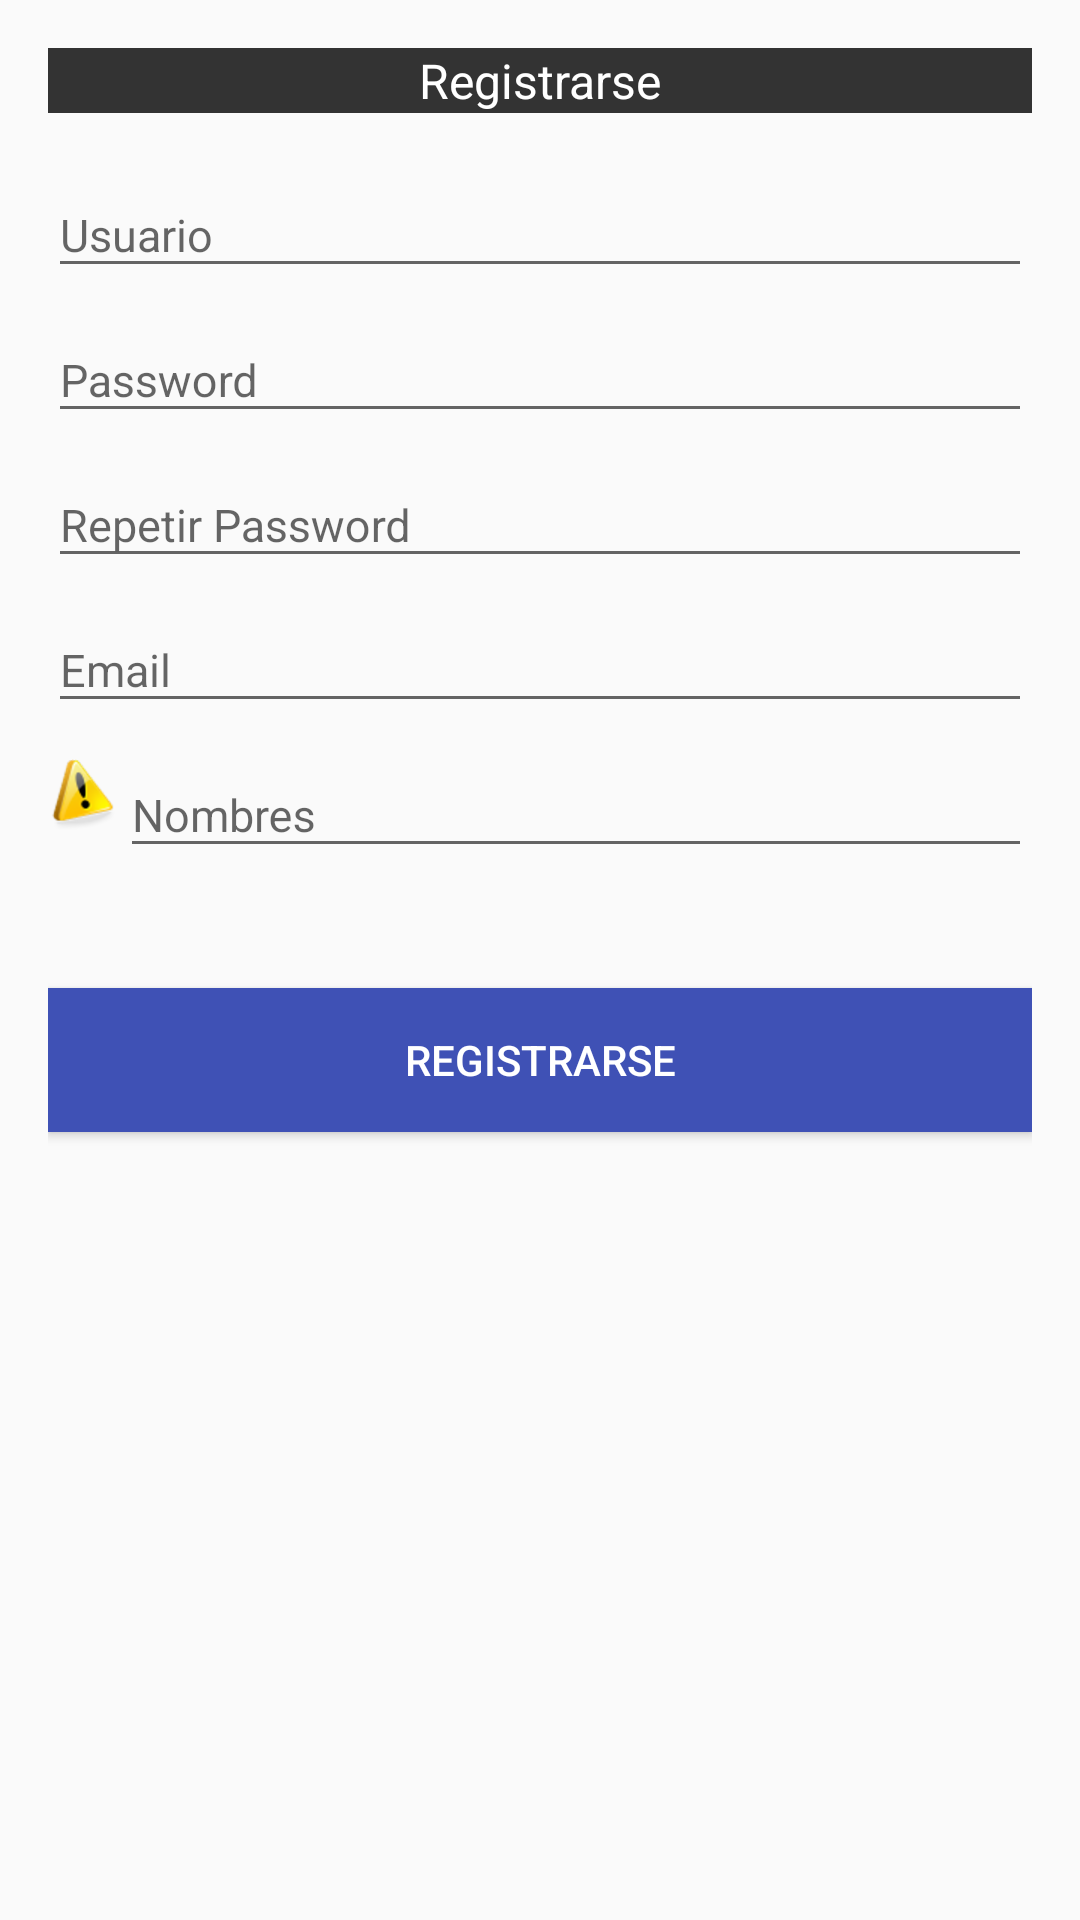

Screen size 1080px×1920px. Icon name, then its box in pixels as (x1, y1, x2, y2):
alert: (52, 759, 113, 823)
